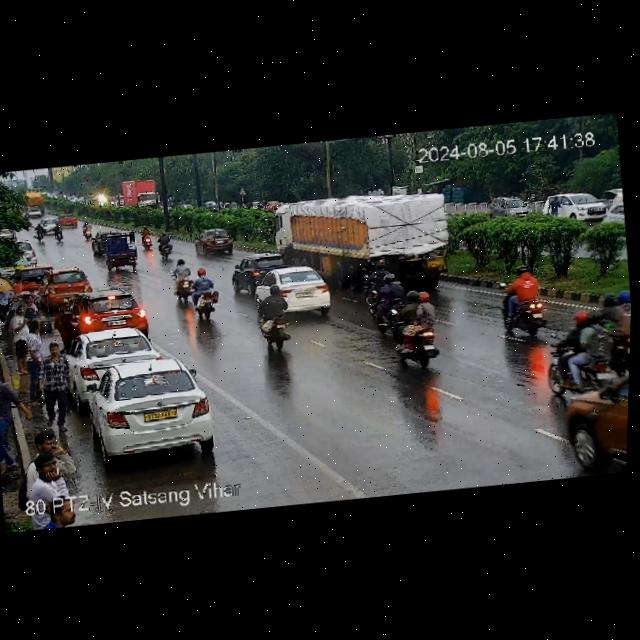car: (72, 353, 222, 462), (561, 362, 629, 477), (74, 323, 160, 392), (247, 265, 335, 317), (66, 287, 150, 335), (543, 187, 615, 225), (231, 252, 296, 292), (38, 269, 94, 303), (120, 176, 165, 217), (96, 234, 143, 272), (491, 190, 532, 220), (194, 235, 235, 258), (56, 213, 79, 228), (40, 215, 58, 232), (25, 205, 42, 220)
motorcycle: (545, 296, 631, 400), (386, 285, 443, 369), (492, 266, 551, 340), (249, 286, 293, 350), (364, 260, 402, 331), (185, 269, 225, 320), (161, 258, 205, 302), (152, 232, 177, 259), (141, 228, 162, 250), (79, 221, 100, 239), (50, 224, 67, 241), (33, 223, 48, 242)
person: (23, 428, 84, 504), (31, 337, 80, 420), (7, 301, 40, 378), (20, 322, 49, 384)
truck: (272, 182, 463, 291), (23, 189, 45, 208), (34, 183, 49, 195)
